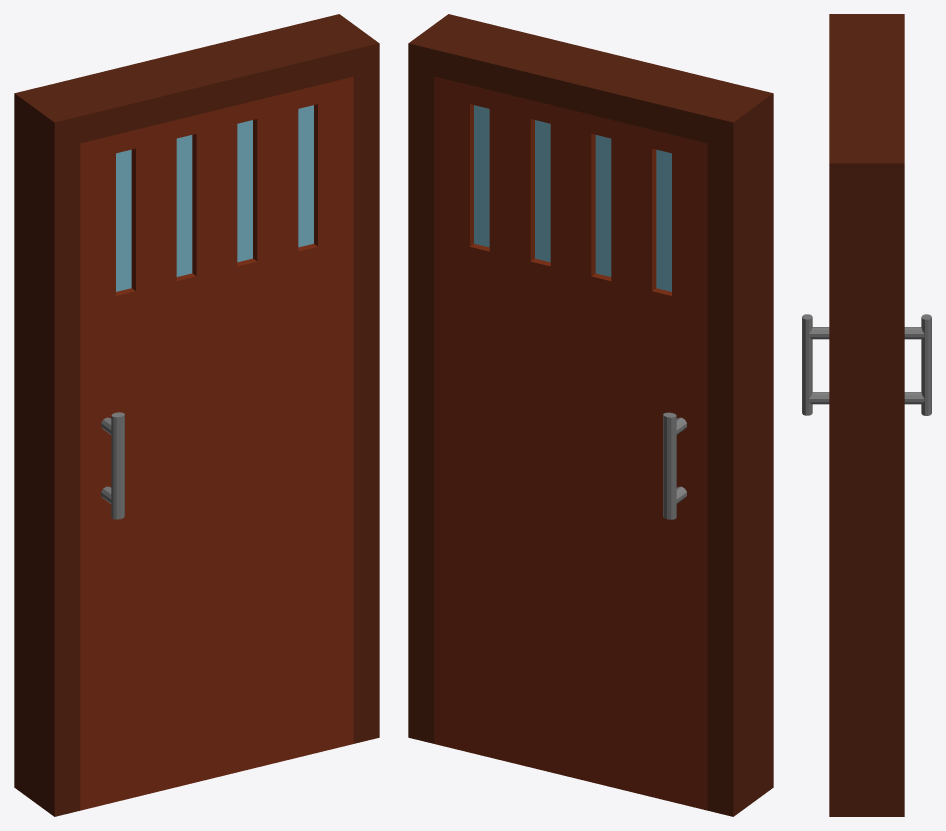
File: porte4.fbx
The picture shows the model from 3 angles, left to right: view 1: azimuth 30°, elevation 25°; view 2: azimuth 150°, elevation 25°; view 3: azimuth 270°, elevation 25°; orthographic projection. The views are drawn at different scales.
Visible parts, largest first — view 1: Cube.000; view 2: Cube.000; view 3: Cube.000.
Part boxes in pixels (x1,y1,x2,y2): Cube.000: (14,14,379,816); Cube.000: (408,14,773,816); Cube.000: (802,14,931,816).
Bounding box in the file's own units: 357 × 728 × 131.
